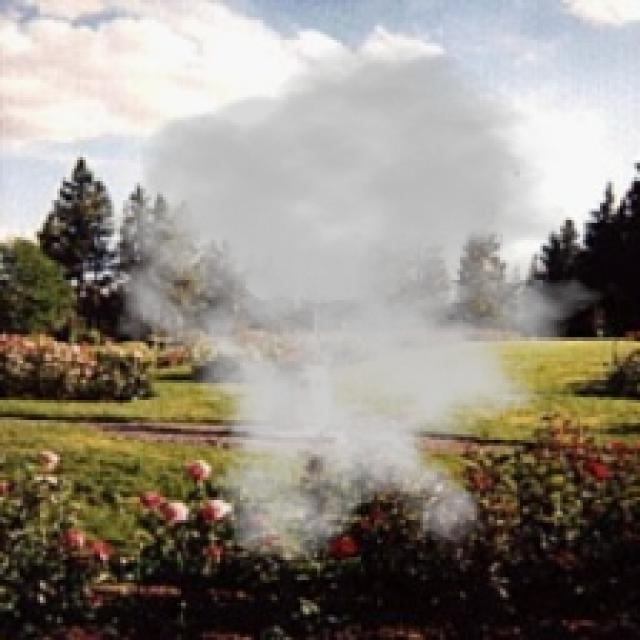Smoke: (86, 43, 628, 566)
